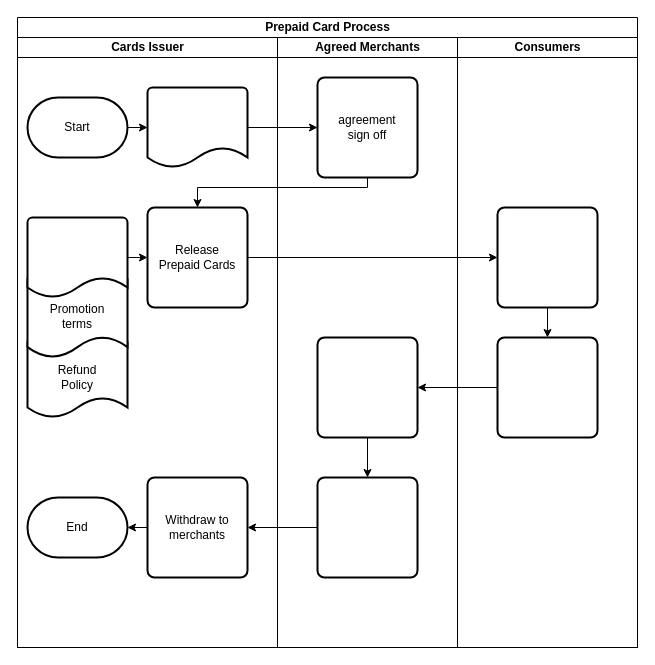
The diagram is 655 pixels wide and 665 high, and some of its shapes have lost their labels. The centre of each missing label's shape, as x and y in pixels:
"Buy Prepaid Cards with agreement" belongs at (x=547, y=257).
"Consume with Prepaid Cards" belongs at (x=547, y=387).
"Prepaid Cards Agreement for Consumers" belongs at (x=77, y=257).
"Prepaid Cards Agreement for Merchants" belongs at (x=197, y=127).
"Request to withdraw" belongs at (x=367, y=527).
"Transaction with Prepaid Cards" belongs at (x=367, y=387).
